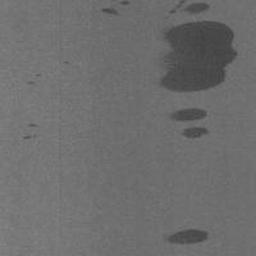Oil spot: (154, 0, 239, 95), (168, 106, 211, 140), (163, 228, 210, 247), (100, 6, 120, 18), (20, 133, 38, 141), (115, 0, 131, 6), (27, 122, 38, 128), (61, 60, 72, 65), (35, 73, 44, 78)
